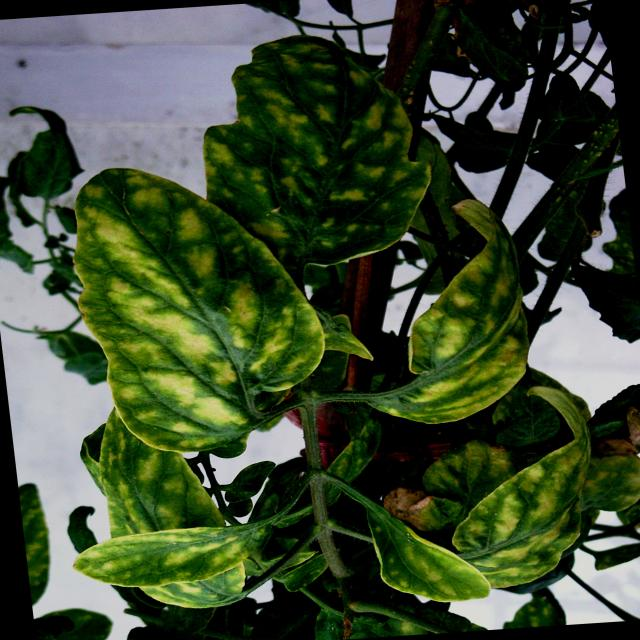Chlorosis: (53, 137, 415, 490)
